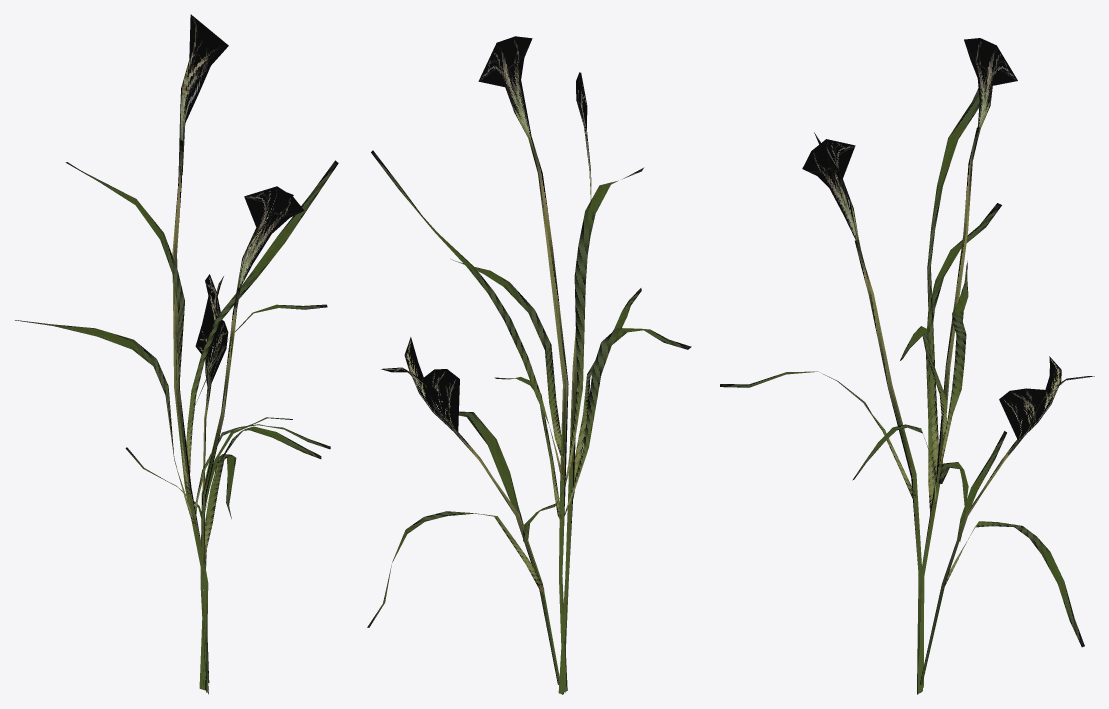
The model's file is natural-reeds-clear.glb.
3 renders of one model, left to right at view 1: azimuth 30°, elevation 25°; view 2: azimuth 150°, elevation 25°; view 3: azimuth 270°, elevation 25°, orthographic. The views are drawn at different scales.
Parts seen in each view (by area): view 1: natural-reeds-clear runtime mesh; view 2: natural-reeds-clear runtime mesh; view 3: natural-reeds-clear runtime mesh.
Boxes of the visible parts, x1,y1,x2,y2 form: natural-reeds-clear runtime mesh: (15,14,338,694); natural-reeds-clear runtime mesh: (367,36,691,694); natural-reeds-clear runtime mesh: (720,38,1094,694).
Size of the model in its own units: 0.499 by 1 by 0.4915.
Materials: 1 (1 with a texture image).
